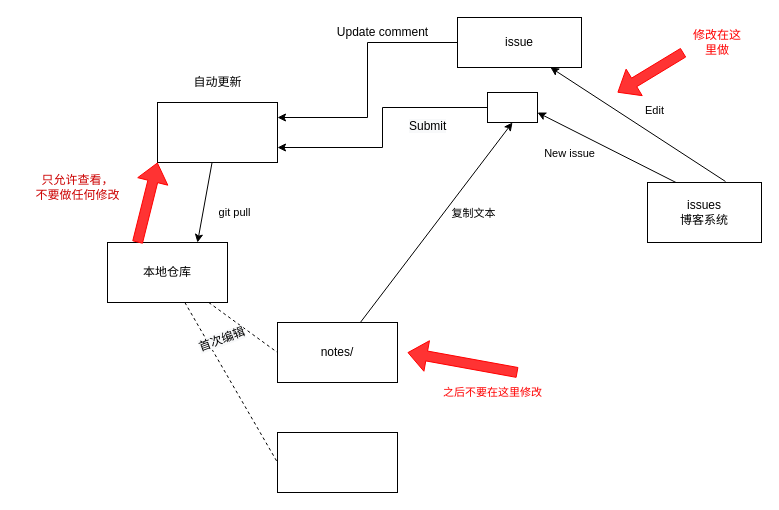
Image size: 779x510. Some labels were removed from this diagram. Here are the shapes that lost their labels. From the top down, the centre of each, then its label:
(x=217, y=132): README.md BACKUP/
(x=337, y=462): memo/
